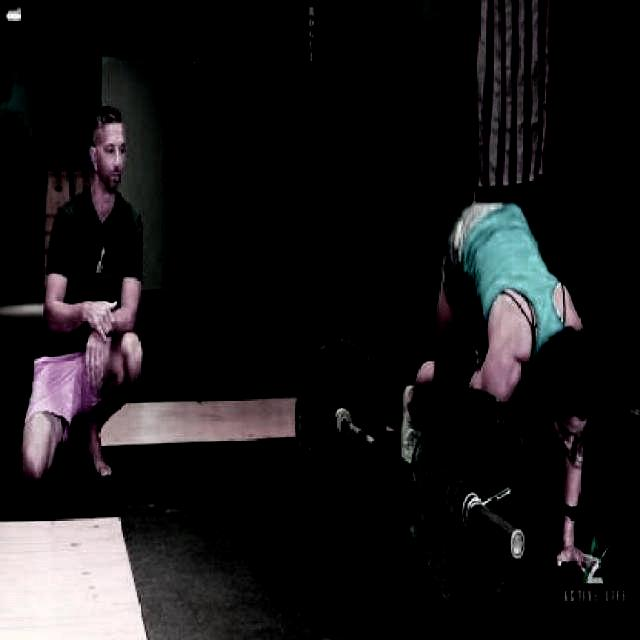barbell: (402, 382, 537, 640), (292, 329, 390, 512)
